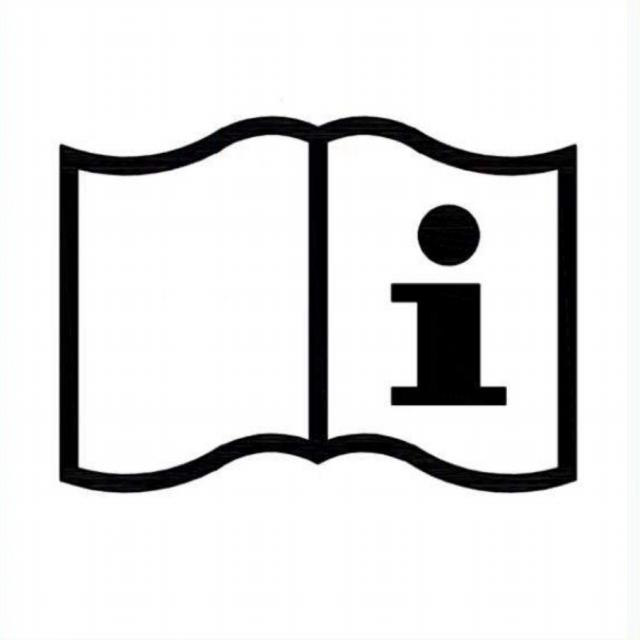Consult instructions: (54, 105, 587, 503)
